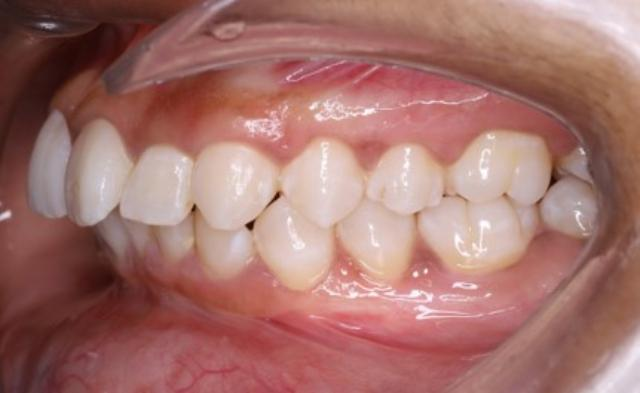canine class II 1/2: (188, 134, 336, 296)
molar class III 1/4: (419, 126, 553, 288)
